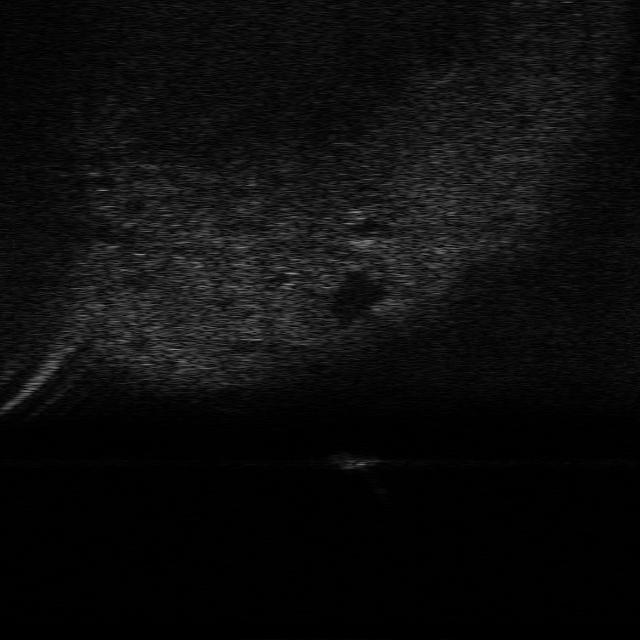cube: (322, 450, 382, 472)
